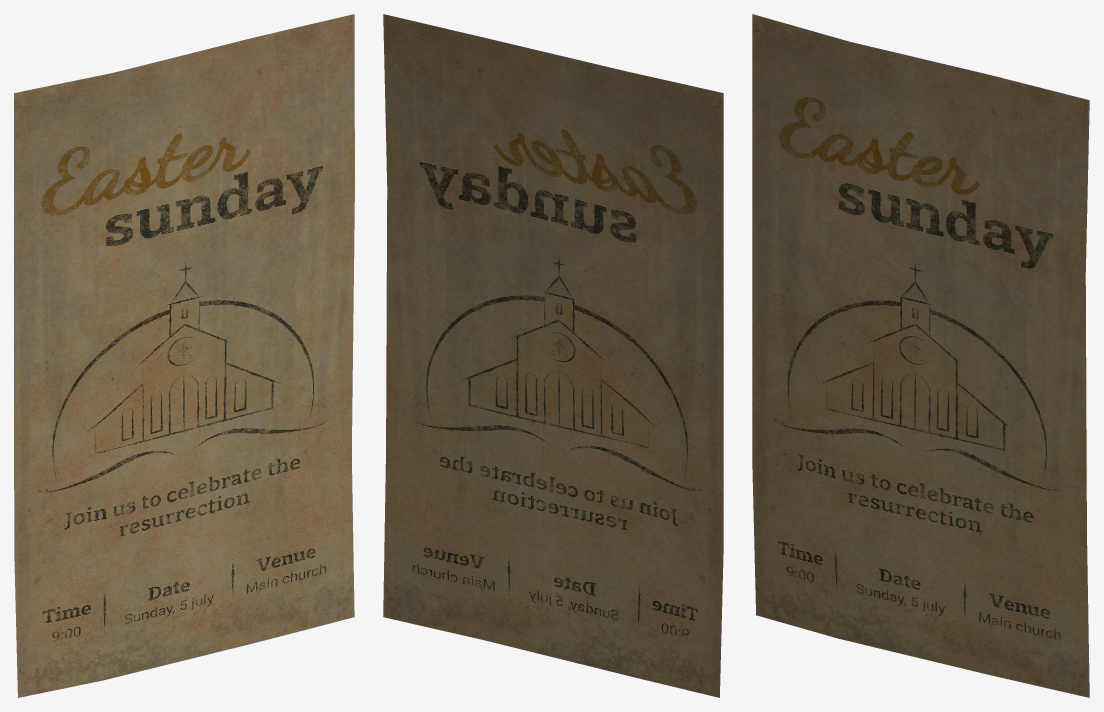
The model's file is SM_poster_02.fbx.
The picture shows the model from 3 angles, left to right: view 1: azimuth 30°, elevation 25°; view 2: azimuth 150°, elevation 25°; view 3: azimuth 330°, elevation 25°; orthographic projection.
Parts seen in each view (by area): view 1: SM_poster_02_LOD0; view 2: SM_poster_02_LOD0; view 3: SM_poster_02_LOD0.
Boxes of the visible parts, x1=… form: SM_poster_02_LOD0: x1=14, y1=14, x2=354, y2=697; SM_poster_02_LOD0: x1=383, y1=14, x2=723, y2=697; SM_poster_02_LOD0: x1=752, y1=14, x2=1089, y2=697.
Size of the model in its own units: 88.06 by 2.06 by 150.
Materials: 1 (1 with a texture image).
